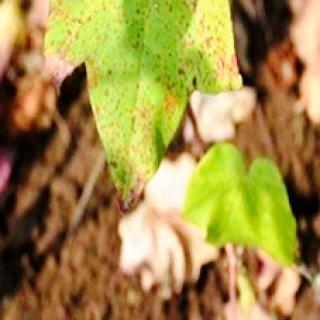leaf spot: (48, 2, 244, 216)
